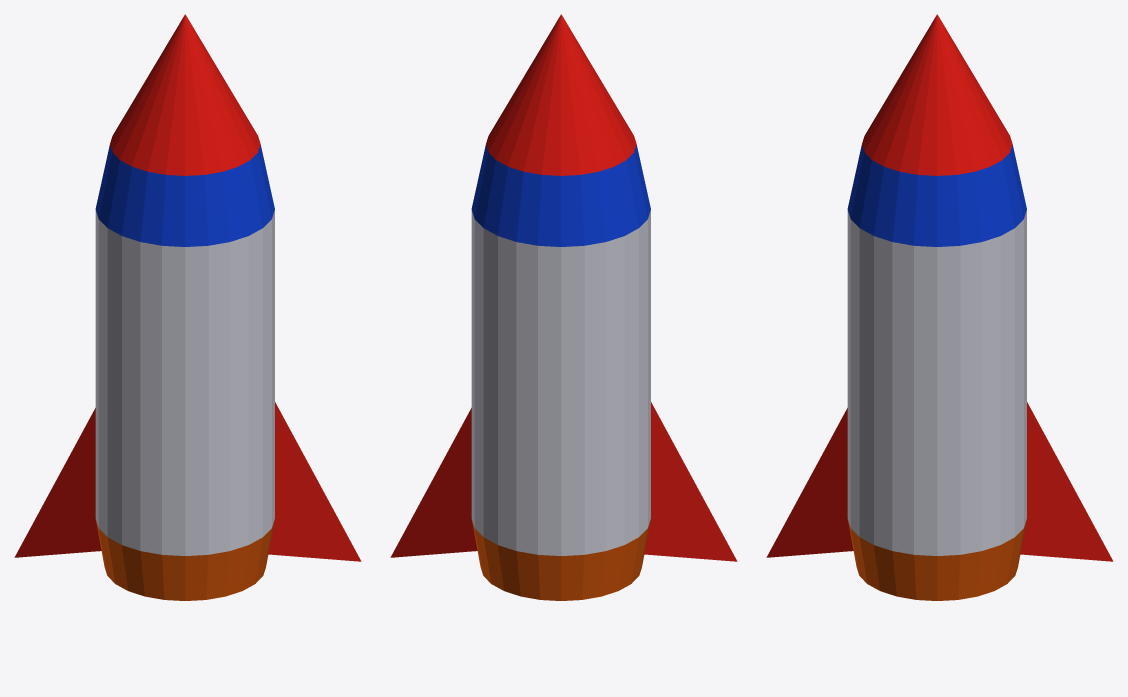
File: rocket.obj
The picture shows the model from 3 angles, left to right: view 1: azimuth 30°, elevation 25°; view 2: azimuth 150°, elevation 25°; view 3: azimuth 270°, elevation 25°; orthographic projection.
Size of the model in its own units: 1.7 by 3.6 by 1.94.
